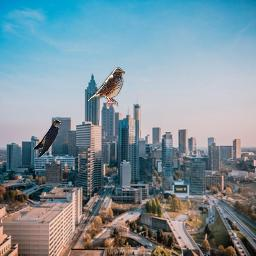Sparrow: (88, 67, 125, 107)
Swallow: (24, 120, 61, 159)
